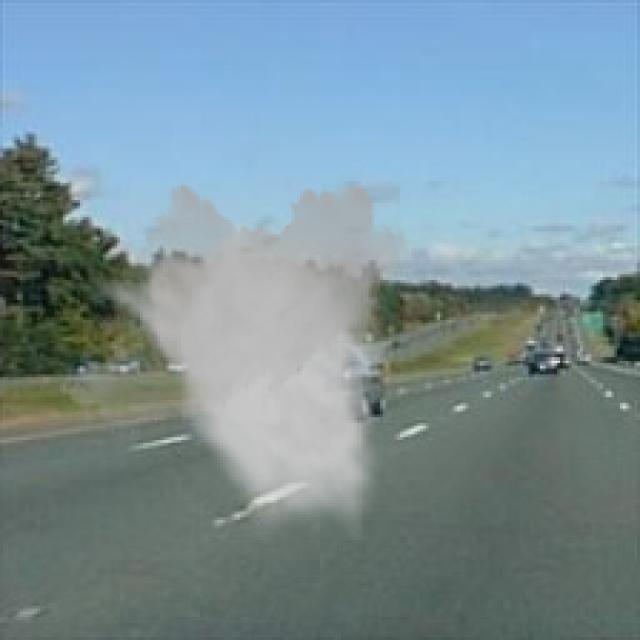smoke: (57, 174, 420, 540)
